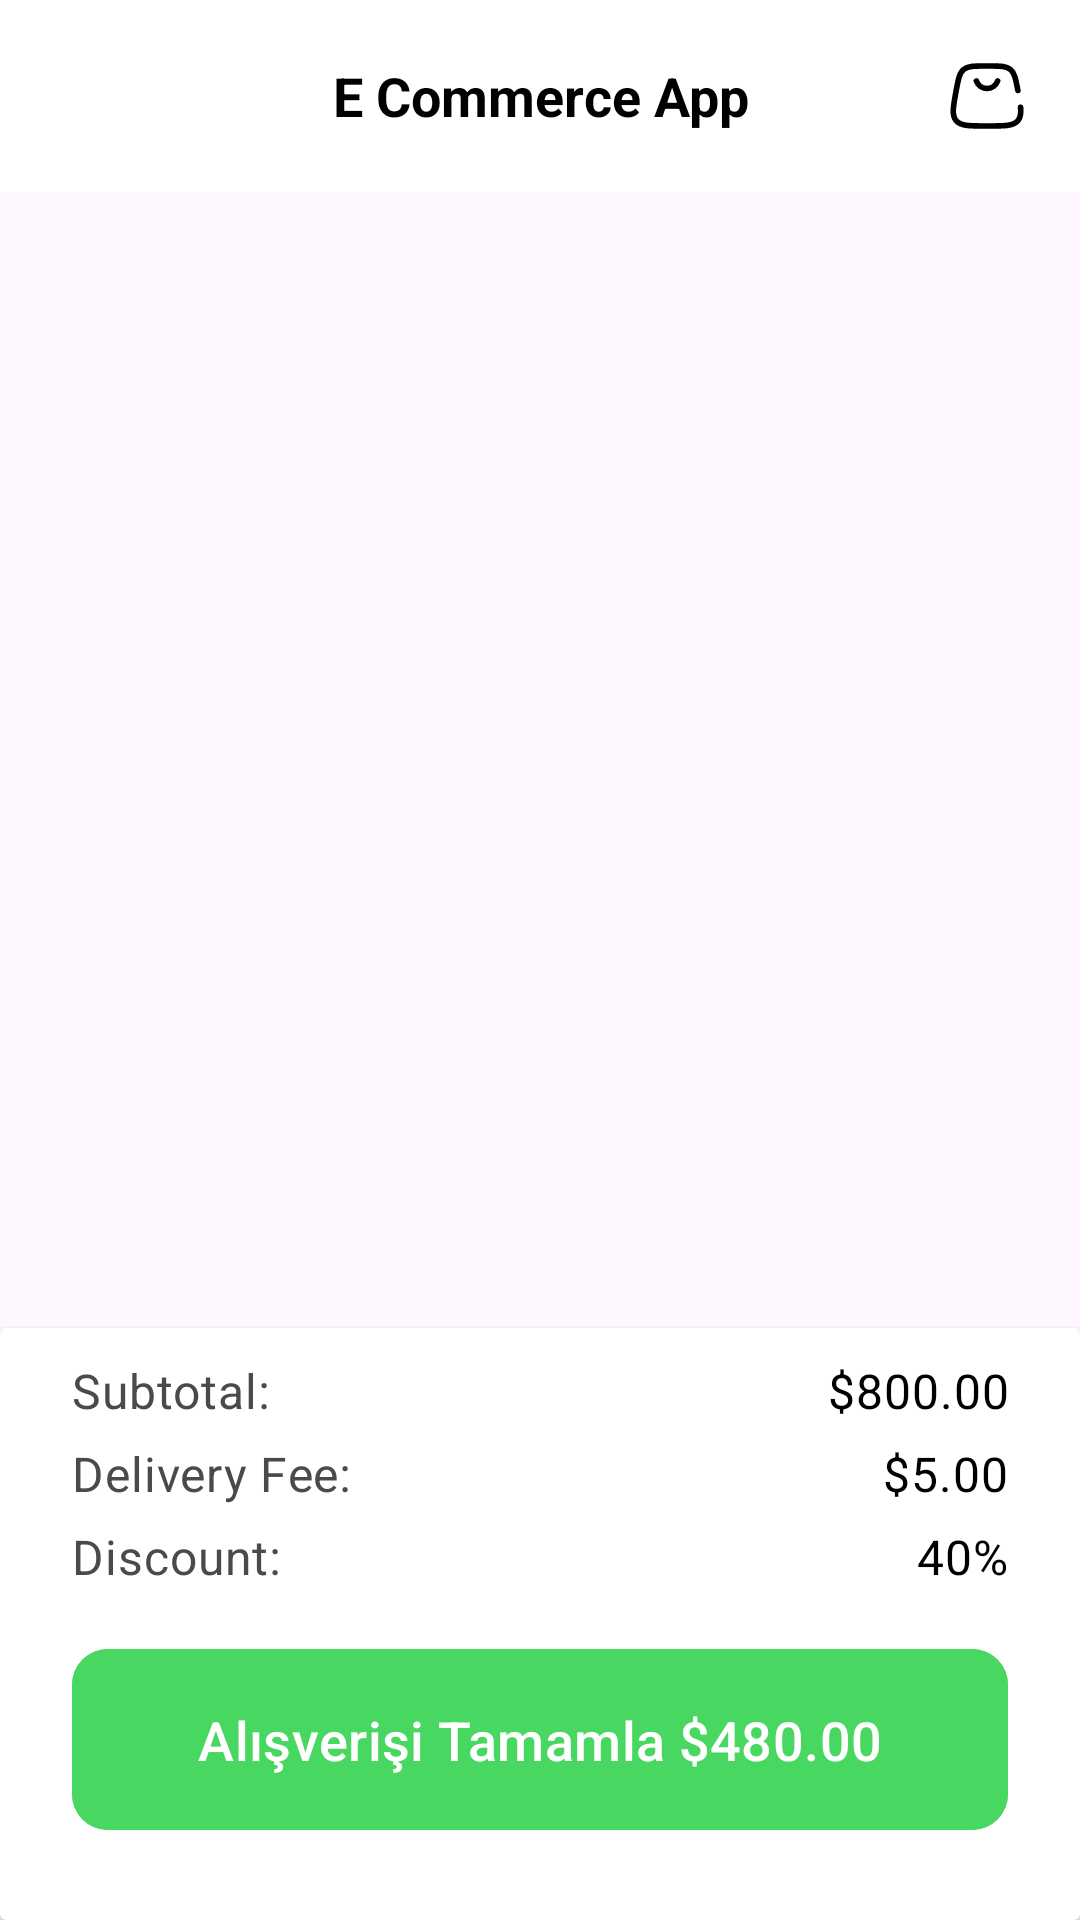

Icon click points for this 1080x1920 phone screenshot, format point (x, y):
bag: point (987, 96)
